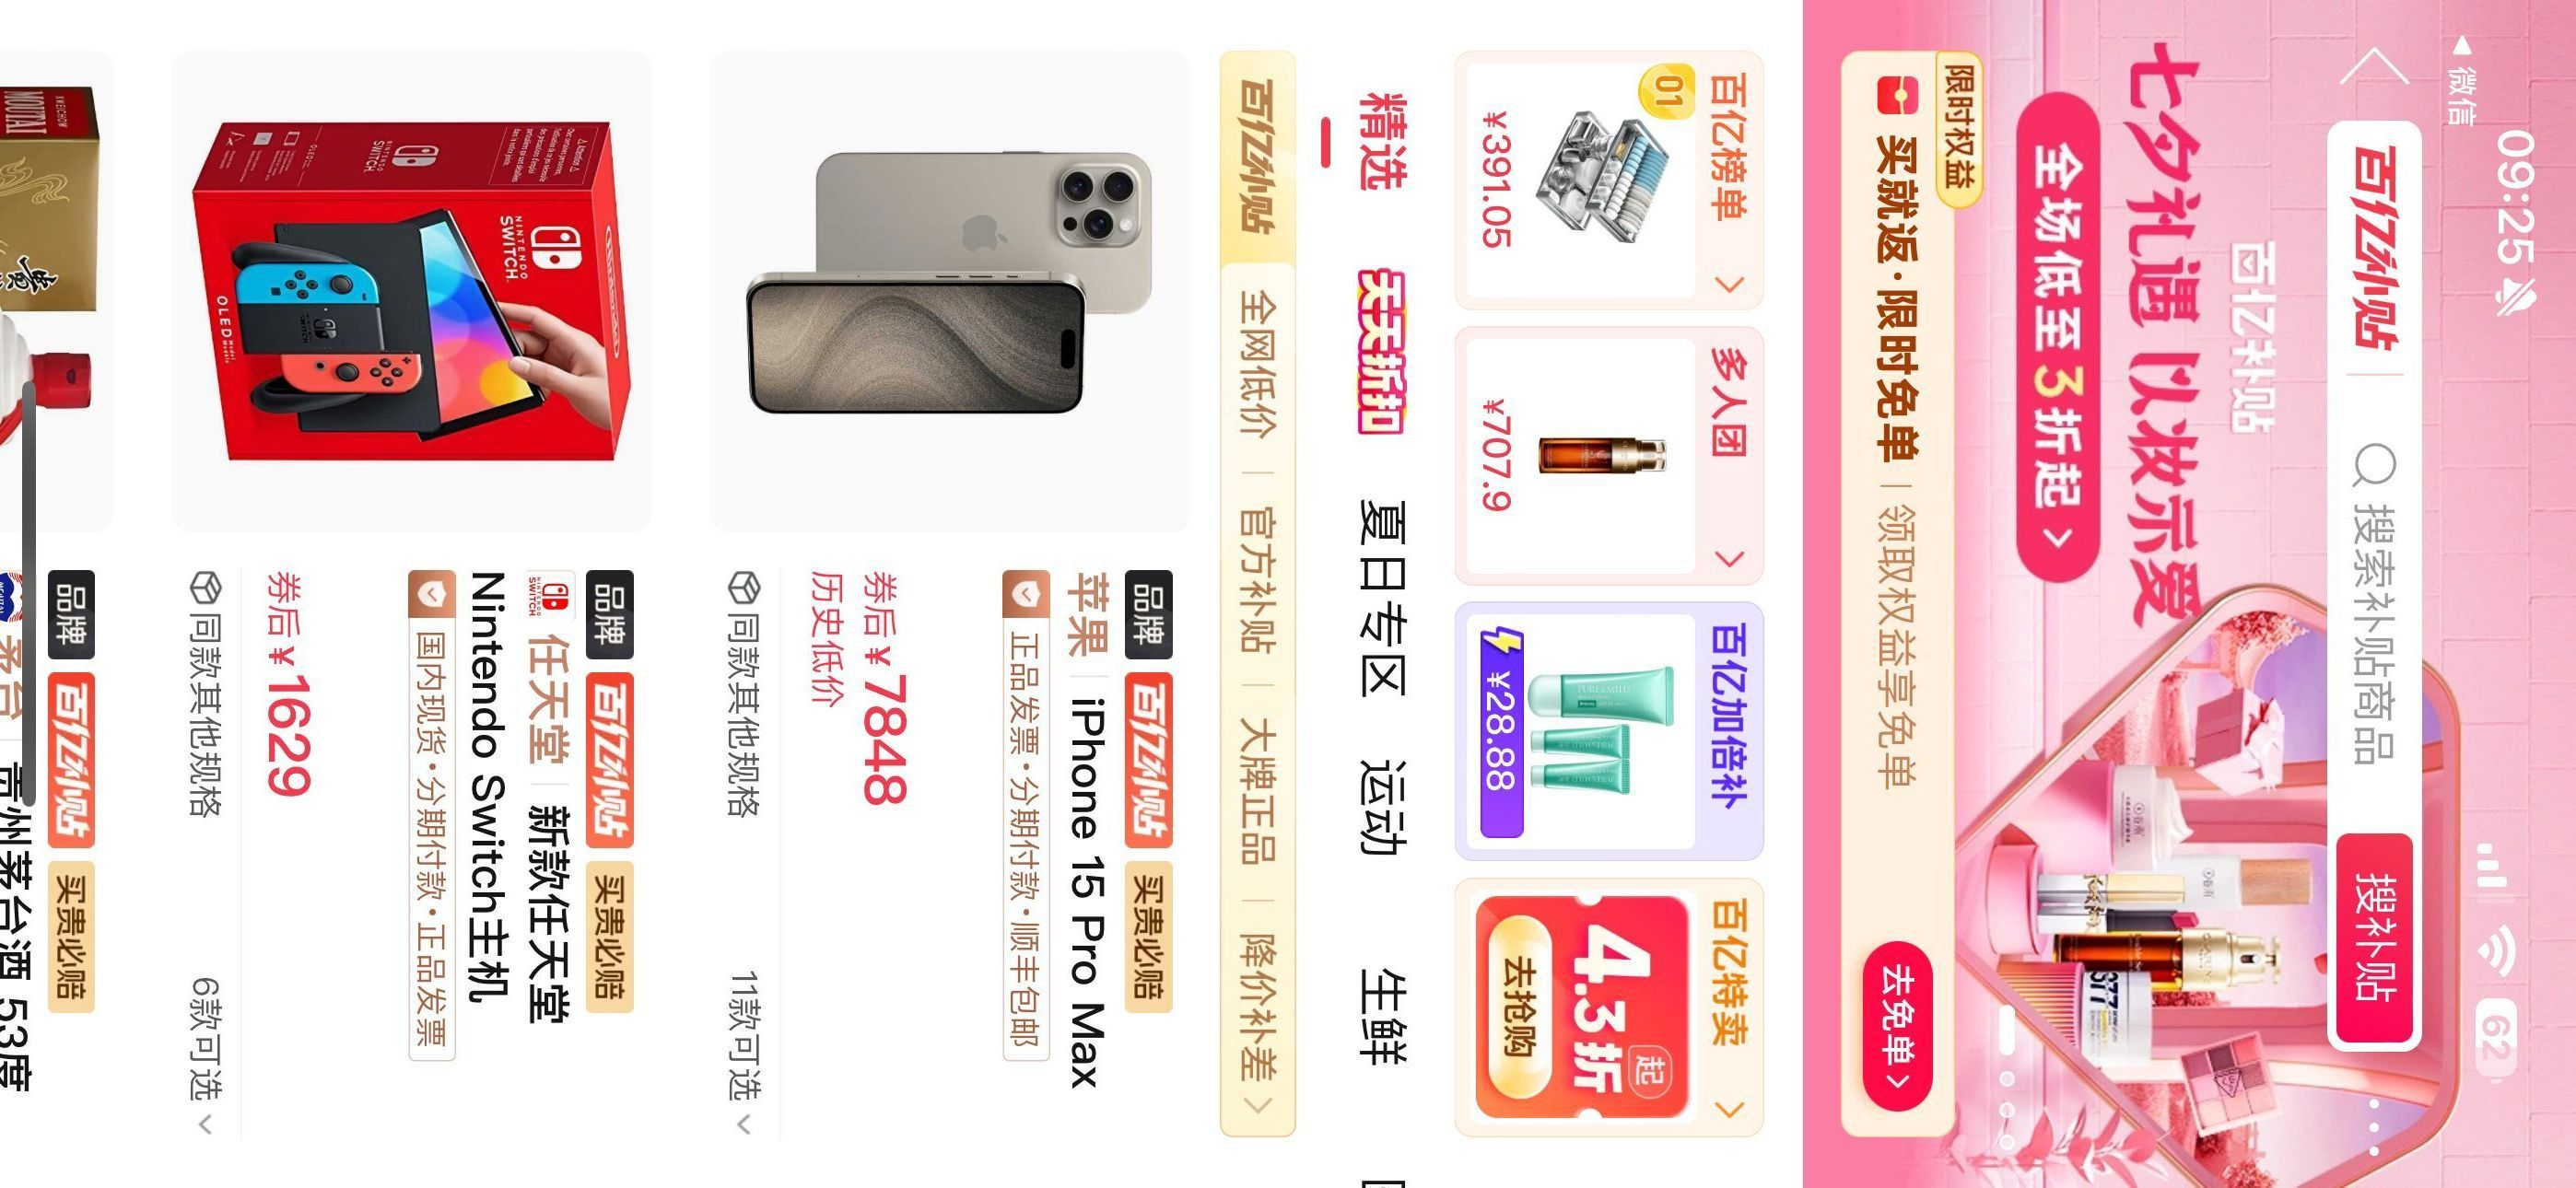banner: (1825, 35, 2009, 1142)
item: (153, 10, 675, 1185), (692, 8, 1207, 1173)
op_bar: (2302, 10, 2448, 1188)
seckill: (1219, 18, 1776, 1163)
